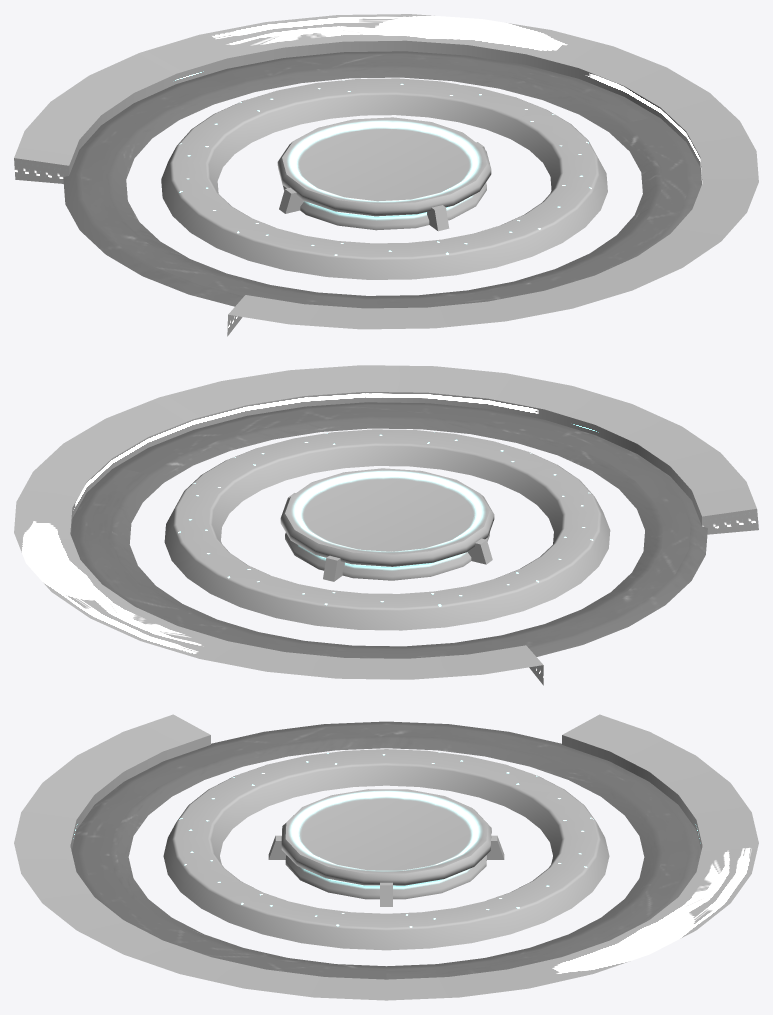
Rendered from Mesh_Zats_CenterPieces.fbx.
3 views of the same model, one above another, from view 1: azimuth 30°, elevation 25°; view 2: azimuth 150°, elevation 25°; view 3: azimuth 270°, elevation 25° (orthographic).
Visible parts, largest first — view 1: Mesh_Zats_CenterPieces_02, Mesh_Zats_CenterPieces_01, Mesh_Zats_CenterPieces_04, Mesh_Zats_CenterPieces_03; view 2: Mesh_Zats_CenterPieces_02, Mesh_Zats_CenterPieces_01, Mesh_Zats_CenterPieces_04, Mesh_Zats_CenterPieces_03; view 3: Mesh_Zats_CenterPieces_02, Mesh_Zats_CenterPieces_01, Mesh_Zats_CenterPieces_04, Mesh_Zats_CenterPieces_03.
Part boxes in pixels (x1,y1,x2,y2): Mesh_Zats_CenterPieces_02: [14, 14, 758, 336]; Mesh_Zats_CenterPieces_01: [63, 51, 701, 308]; Mesh_Zats_CenterPieces_04: [161, 78, 607, 279]; Mesh_Zats_CenterPieces_03: [277, 117, 491, 231]; Mesh_Zats_CenterPieces_02: [14, 365, 758, 685]; Mesh_Zats_CenterPieces_01: [71, 402, 707, 658]; Mesh_Zats_CenterPieces_04: [164, 429, 610, 630]; Mesh_Zats_CenterPieces_03: [280, 468, 494, 581]; Mesh_Zats_CenterPieces_02: [14, 714, 758, 1000]; Mesh_Zats_CenterPieces_01: [71, 721, 701, 979]; Mesh_Zats_CenterPieces_04: [163, 749, 609, 950]; Mesh_Zats_CenterPieces_03: [268, 789, 504, 906].
Size of the model in its own units: 138 by 7.18 by 148.
